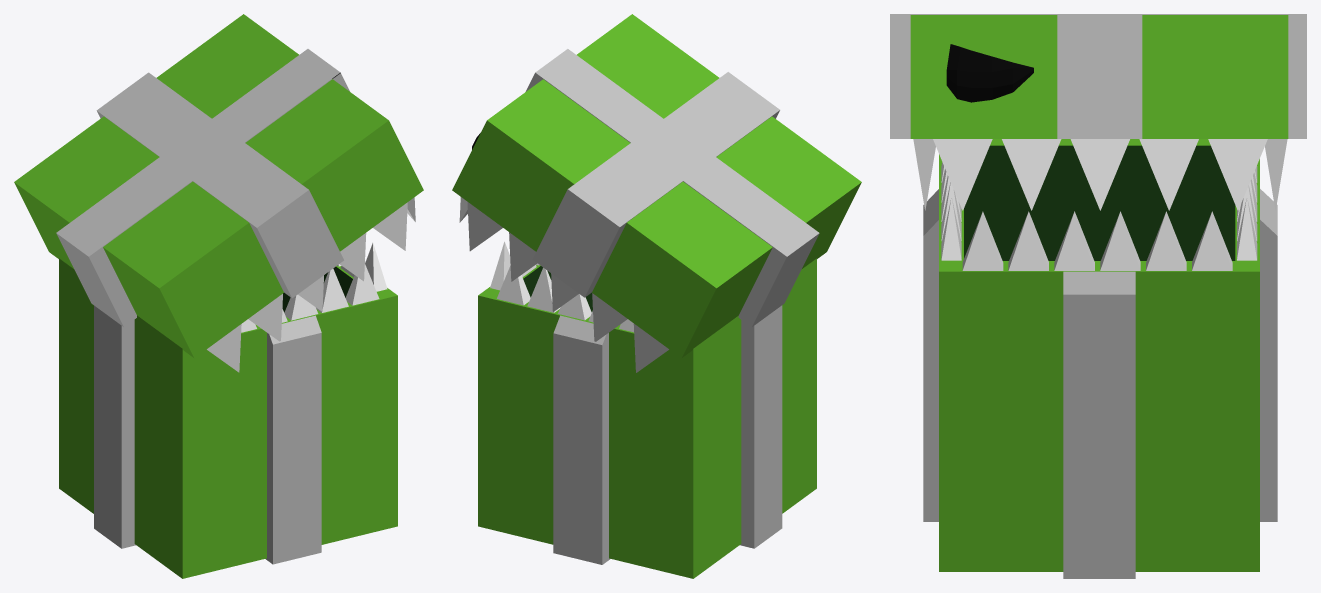
Rendered from RegaloVerde.fbx.
3 renders of one model, left to right at view 1: azimuth 30°, elevation 25°; view 2: azimuth 150°, elevation 25°; view 3: azimuth 270°, elevation 25°, orthographic. The views are drawn at different scales.
Parts seen in each view (by area): view 1: Cube.002, Cube.001; view 2: Cube.002, Cube.001; view 3: Cube.001, Cube.002.
Part boxes in pixels (<box>): Cube.002: <box>14,14,423,372</box>; Cube.001: <box>59,243,397,578</box>; Cube.002: <box>452,14,861,372</box>; Cube.001: <box>478,241,816,578</box>; Cube.001: <box>923,139,1277,578</box>; Cube.002: <box>890,14,1306,210</box>.
Size of the model in its own units: 10.46 by 14.62 by 10.
